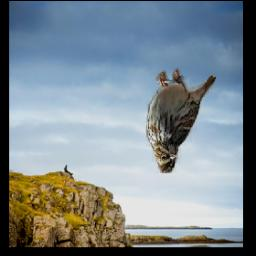Sparrow: (144, 67, 217, 173)
